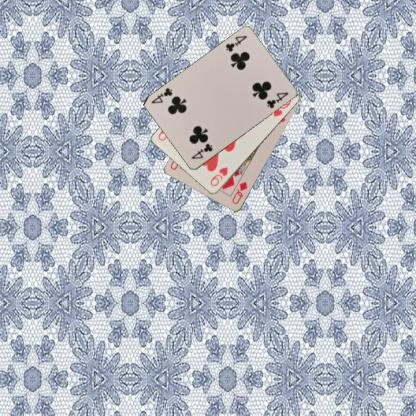4c: (188, 141, 214, 161), (223, 33, 248, 53)
9h: (207, 164, 230, 188)
Qd: (230, 179, 248, 206)
